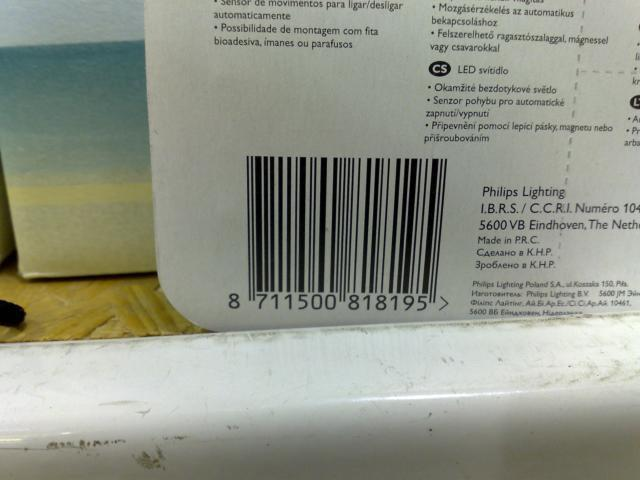Barcode: (216, 149, 457, 321)
